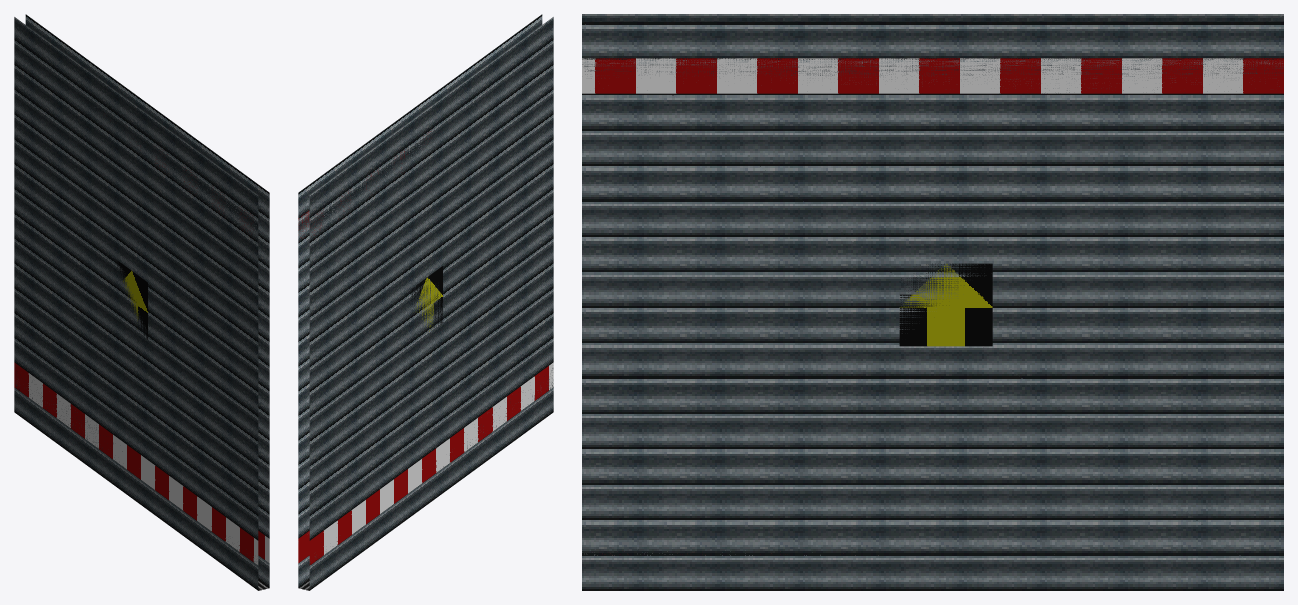
The model's file is primary_110.glb.
3 renders of one model, left to right at view 1: azimuth 30°, elevation 25°; view 2: azimuth 150°, elevation 25°; view 3: azimuth 270°, elevation 25°, orthographic. The views are drawn at different scales.
Parts seen in each view (by area): view 1: Object; view 2: Object; view 3: Object.
Boxes of the visible parts, <box> form: Object: <box>14,14,269,590</box>; Object: <box>298,14,553,590</box>; Object: <box>582,14,1283,590</box>.
Bounding box in the file's own units: 0.1035 × 3.52 × 3.93.
6 materials, 6 textured.
